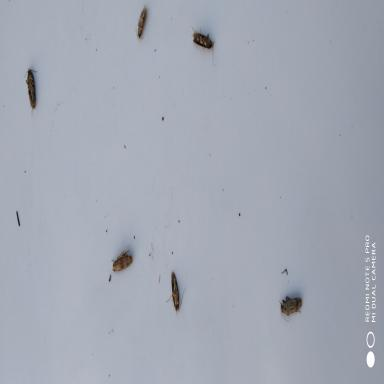pbw: (19, 58, 44, 123), (187, 17, 218, 67), (164, 264, 187, 319), (130, 3, 153, 50), (277, 292, 305, 327), (110, 245, 134, 278)
